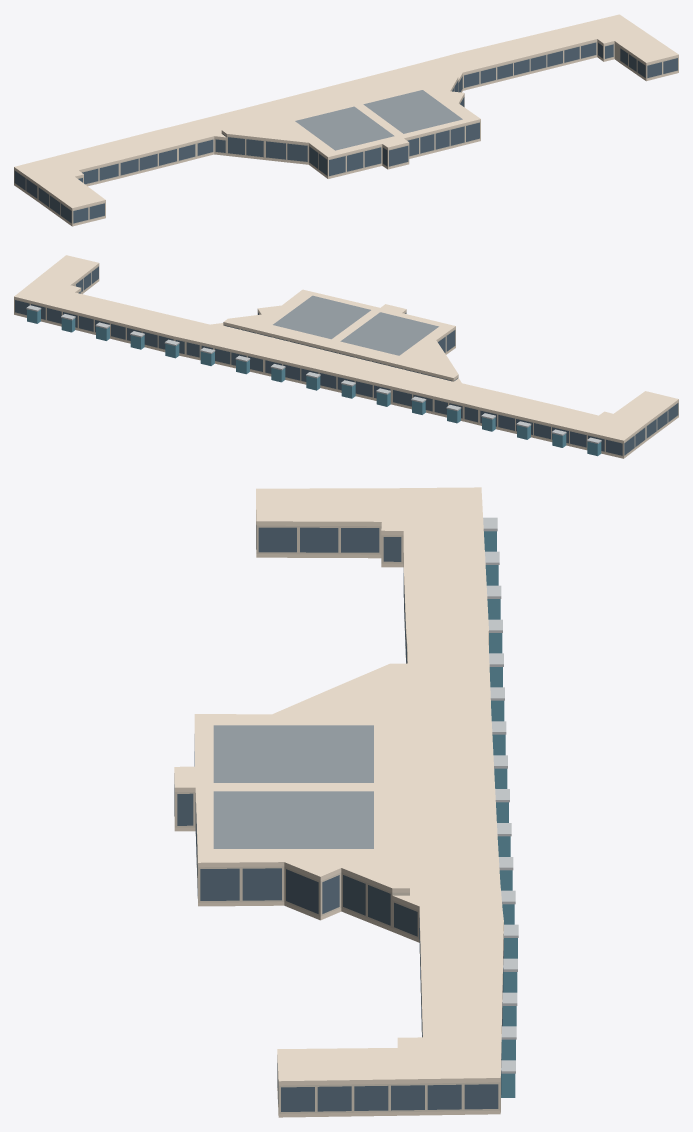
Rendered from dubai-dxb-concourse-d.glb.
3 renders of one model, top to bottom at view 1: azimuth 30°, elevation 25°; view 2: azimuth 150°, elevation 25°; view 3: azimuth 270°, elevation 25°, orthographic. The views are drawn at different scales.
Visible parts, largest first — view 1: Dubai International Airport Concourse D; view 2: Dubai International Airport Concourse D; view 3: Dubai International Airport Concourse D.
Boxes of the visible parts, x1,y1,x2,y2 form: Dubai International Airport Concourse D: [14, 14, 678, 226]; Dubai International Airport Concourse D: [14, 255, 678, 458]; Dubai International Airport Concourse D: [174, 487, 518, 1117].
Bounding box in the file's own units: 701 × 24.15 × 172.
